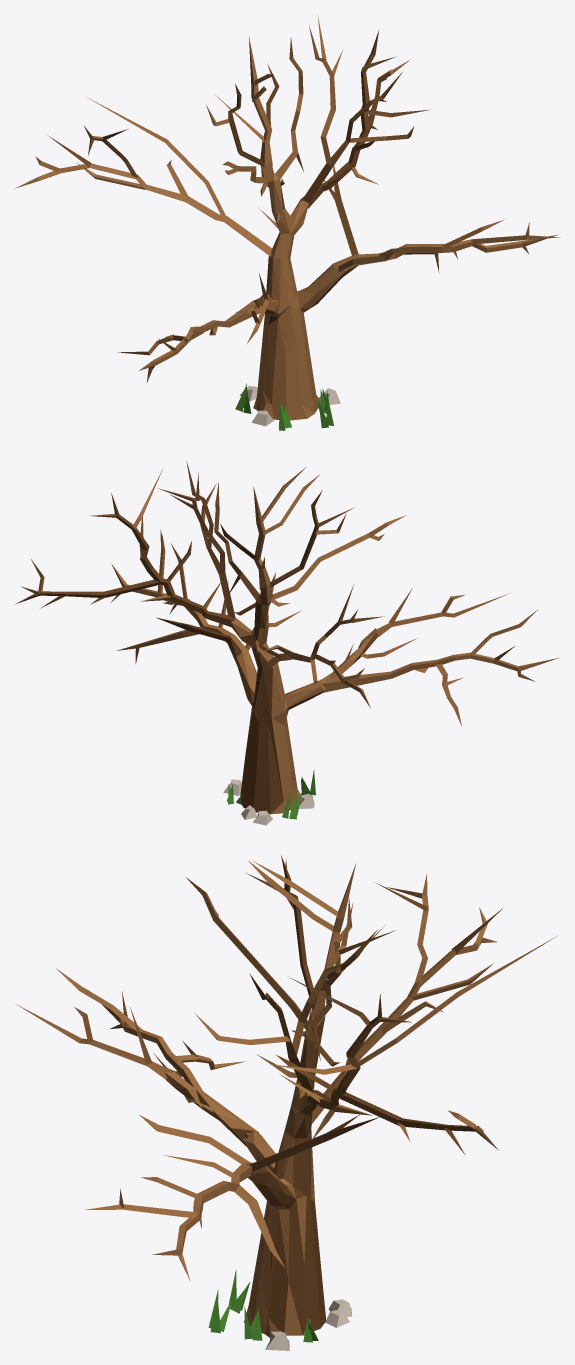
The model's file is yellow_oak_bare.glb.
3 views of the same model, one above another, from view 1: azimuth 30°, elevation 25°; view 2: azimuth 150°, elevation 25°; view 3: azimuth 270°, elevation 25° (orthographic). The views are drawn at different scales.
Visible parts, largest first — view 1: yellow_oak_bare; view 2: yellow_oak_bare; view 3: yellow_oak_bare.
Boxes of the visible parts, x1=… form: yellow_oak_bare: x1=15, y1=15, x2=559, y2=430; yellow_oak_bare: x1=15, y1=460, x2=559, y2=825; yellow_oak_bare: x1=16, y1=855, x2=556, y2=1350.
Bounding box in the file's own units: 8.09 × 6.19 × 6.74.
